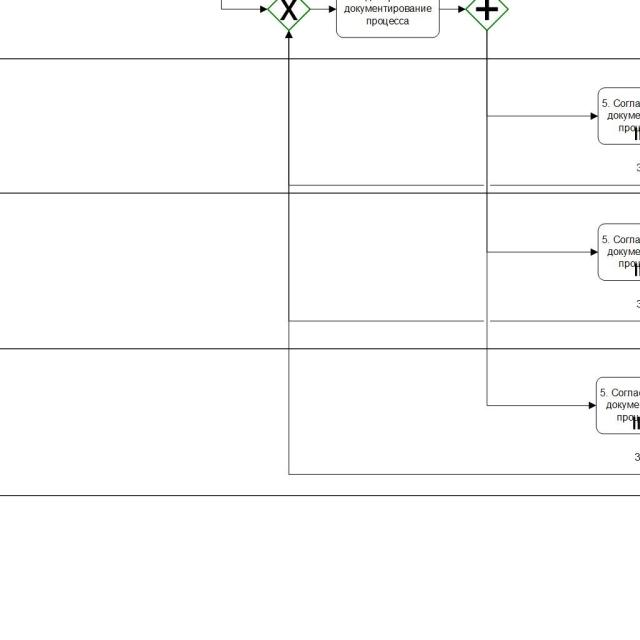arrow: (484, 31, 596, 412), (484, 30, 598, 258), (484, 31, 598, 122)
